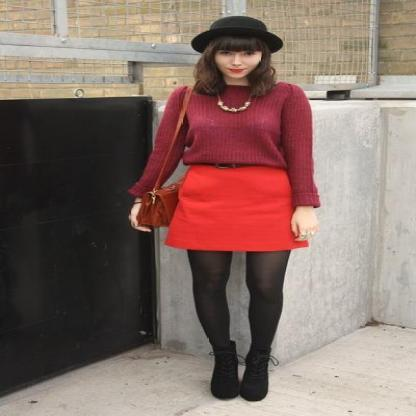hat: (191, 16, 282, 52)
jacket: (128, 82, 319, 207)
shoe: (194, 337, 270, 385)
skirt: (165, 167, 308, 251)
